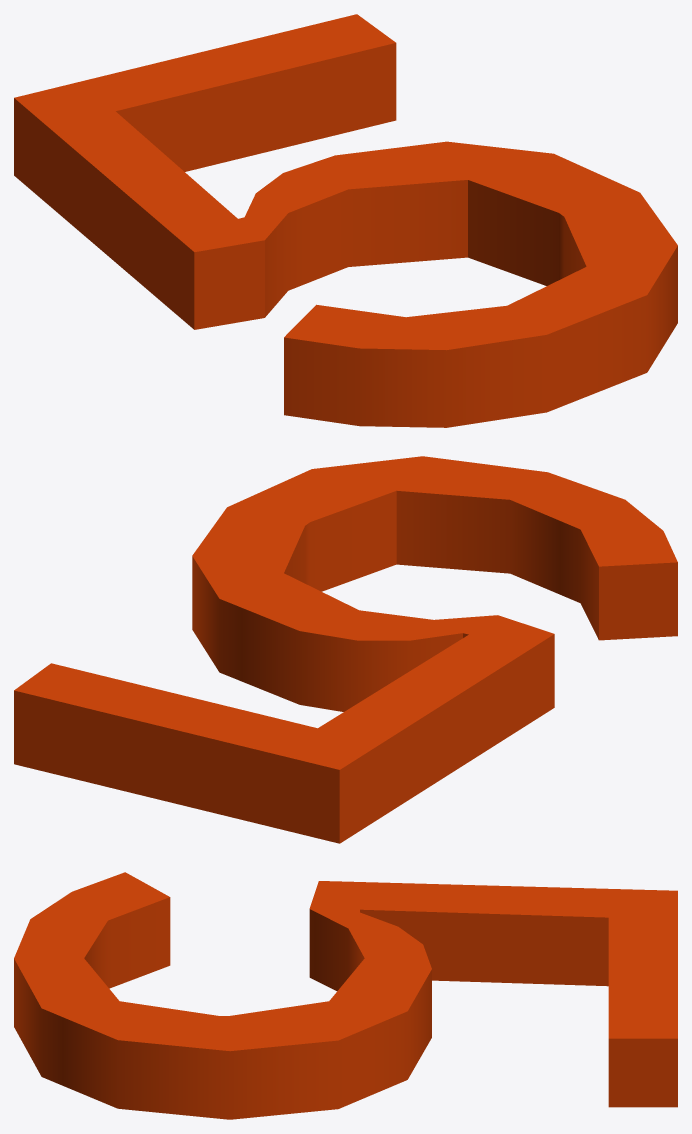
File: Five.fbx
The picture shows the model from 3 angles, top to bottom: view 1: azimuth 30°, elevation 25°; view 2: azimuth 150°, elevation 25°; view 3: azimuth 270°, elevation 25°; orthographic projection. The views are drawn at different scales.
Parts seen in each view (by area): view 1: Five; view 2: Five; view 3: Five.
Boxes of the visible parts, x1,y1,x2,y2 form: Five: (14, 14, 677, 427); Five: (14, 456, 677, 843); Five: (14, 872, 677, 1119).
Bounding box in the file's own units: 0.1405 × 0.0251 × 0.2202.
